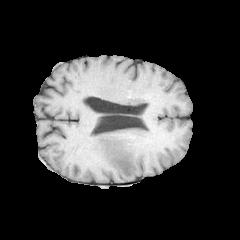glioma: (91, 129, 139, 177)
